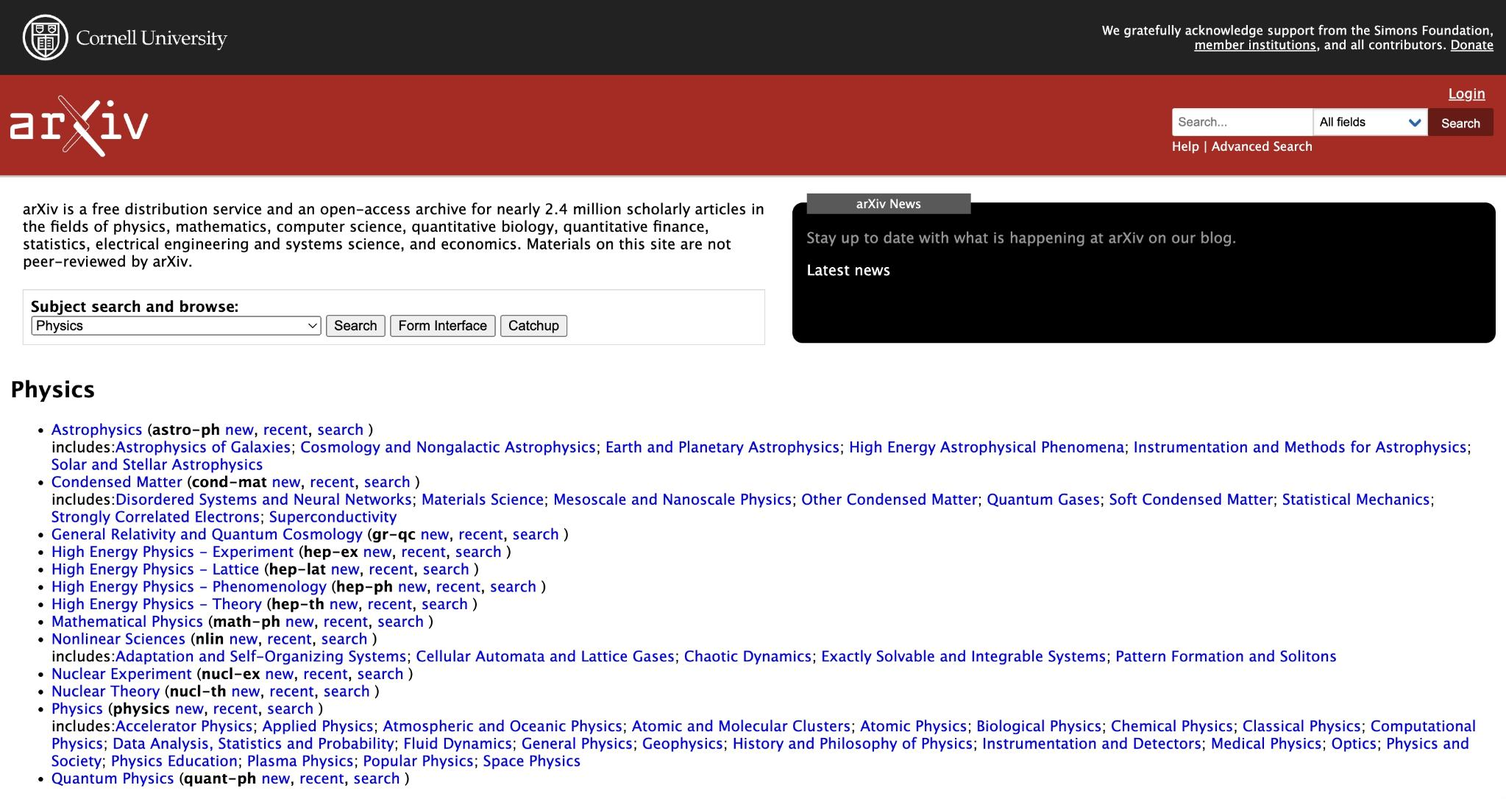webelement: (22, 199, 764, 273), (50, 716, 1475, 751), (50, 734, 1468, 768), (22, 288, 764, 344), (1083, 22, 1493, 51), (806, 228, 1481, 245), (806, 260, 1481, 277), (22, 13, 227, 59), (10, 95, 148, 156), (1133, 437, 1467, 454), (30, 315, 320, 334), (50, 524, 362, 541), (300, 437, 595, 454), (116, 490, 411, 507), (115, 646, 406, 663), (821, 646, 1105, 663), (112, 734, 394, 751), (50, 576, 325, 593), (849, 437, 1123, 454), (415, 646, 674, 663), (51, 542, 294, 559), (1172, 108, 1324, 135), (733, 734, 973, 751), (553, 490, 792, 507), (383, 716, 622, 733), (605, 437, 840, 454), (1115, 646, 1336, 663), (981, 734, 1201, 751), (631, 716, 850, 733), (51, 454, 263, 471), (50, 594, 260, 611), (51, 507, 260, 524), (30, 297, 237, 314), (50, 560, 259, 576), (806, 193, 970, 213), (1312, 108, 1428, 135), (115, 437, 290, 454), (802, 490, 977, 507), (1109, 490, 1273, 507), (50, 612, 202, 629), (1282, 490, 1429, 507), (22, 49, 227, 61), (51, 664, 191, 681), (390, 314, 496, 336), (116, 716, 252, 733), (51, 629, 185, 646), (51, 472, 182, 489), (683, 646, 811, 663), (269, 507, 396, 524), (110, 751, 237, 768), (976, 716, 1101, 733), (50, 768, 173, 785), (421, 490, 543, 507), (1111, 716, 1233, 733), (1242, 716, 1361, 733), (987, 490, 1100, 507), (262, 716, 373, 733), (521, 734, 632, 751), (1210, 734, 1321, 751), (362, 751, 472, 768), (50, 682, 159, 699), (404, 734, 512, 751), (860, 716, 966, 733), (246, 751, 352, 768), (1428, 108, 1493, 135), (1194, 37, 1316, 51), (482, 751, 579, 768), (50, 420, 141, 437), (500, 314, 567, 336), (1211, 139, 1313, 153), (806, 260, 890, 277), (641, 734, 722, 751), (325, 314, 384, 336), (50, 699, 103, 715), (363, 472, 411, 489), (316, 420, 363, 437), (512, 524, 559, 541), (455, 542, 502, 559), (489, 576, 536, 593), (421, 594, 468, 611), (377, 612, 424, 629), (320, 629, 367, 646), (356, 664, 403, 681), (322, 682, 369, 699), (353, 768, 400, 785), (263, 420, 308, 437), (309, 472, 354, 489), (457, 524, 502, 541), (400, 542, 445, 559), (435, 576, 480, 593), (366, 594, 411, 611), (322, 612, 367, 629), (266, 629, 311, 646), (303, 664, 348, 681), (269, 682, 314, 699), (1332, 734, 1377, 751), (298, 768, 343, 785), (422, 560, 469, 576), (266, 699, 313, 715), (368, 560, 413, 576), (212, 699, 257, 715), (1451, 37, 1493, 51), (1449, 84, 1485, 100), (223, 420, 252, 437), (271, 472, 300, 489), (362, 542, 391, 559), (397, 576, 426, 593), (328, 594, 357, 611), (284, 612, 313, 629), (261, 768, 290, 785), (420, 524, 448, 541), (228, 629, 256, 646), (264, 664, 292, 681), (231, 682, 259, 699), (329, 560, 358, 576), (175, 699, 203, 715), (1172, 139, 1199, 153)
